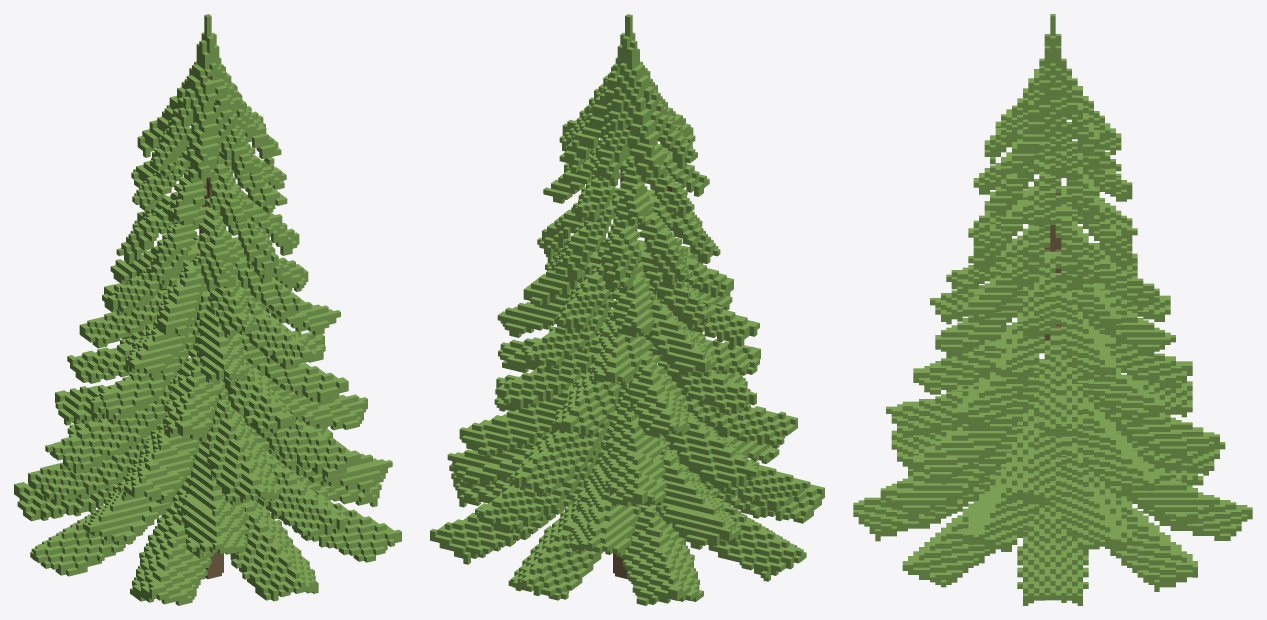
File: Fir_Tree.fbx
3 views of the same model, side by side, from view 1: azimuth 30°, elevation 25°; view 2: azimuth 150°, elevation 25°; view 3: azimuth 270°, elevation 25° (orthographic).
Parts seen in each view (by area): view 1: Fir-tree; view 2: Fir-tree; view 3: Fir-tree.
Boxes of the visible parts, <box> form: Fir-tree: <box>14,14,401,605</box>; Fir-tree: <box>430,14,824,605</box>; Fir-tree: <box>853,14,1252,605</box>.
Size of the model in its own units: 375 by 567 by 370.
